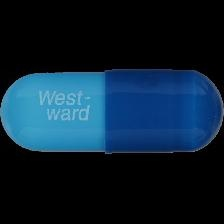59467-318: (0, 0, 224, 224)
